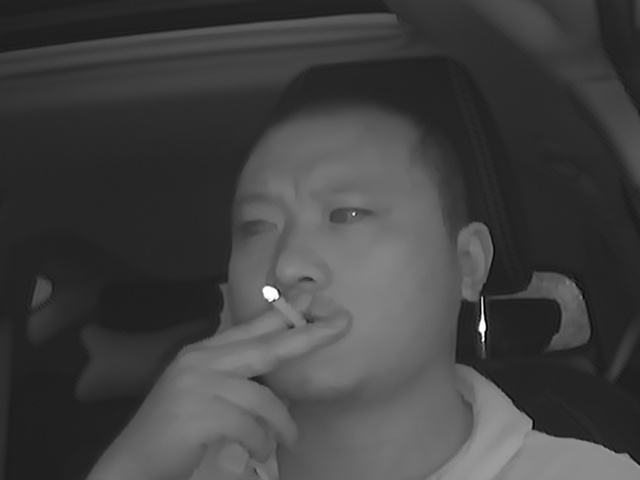hand: (184, 294, 341, 458)
